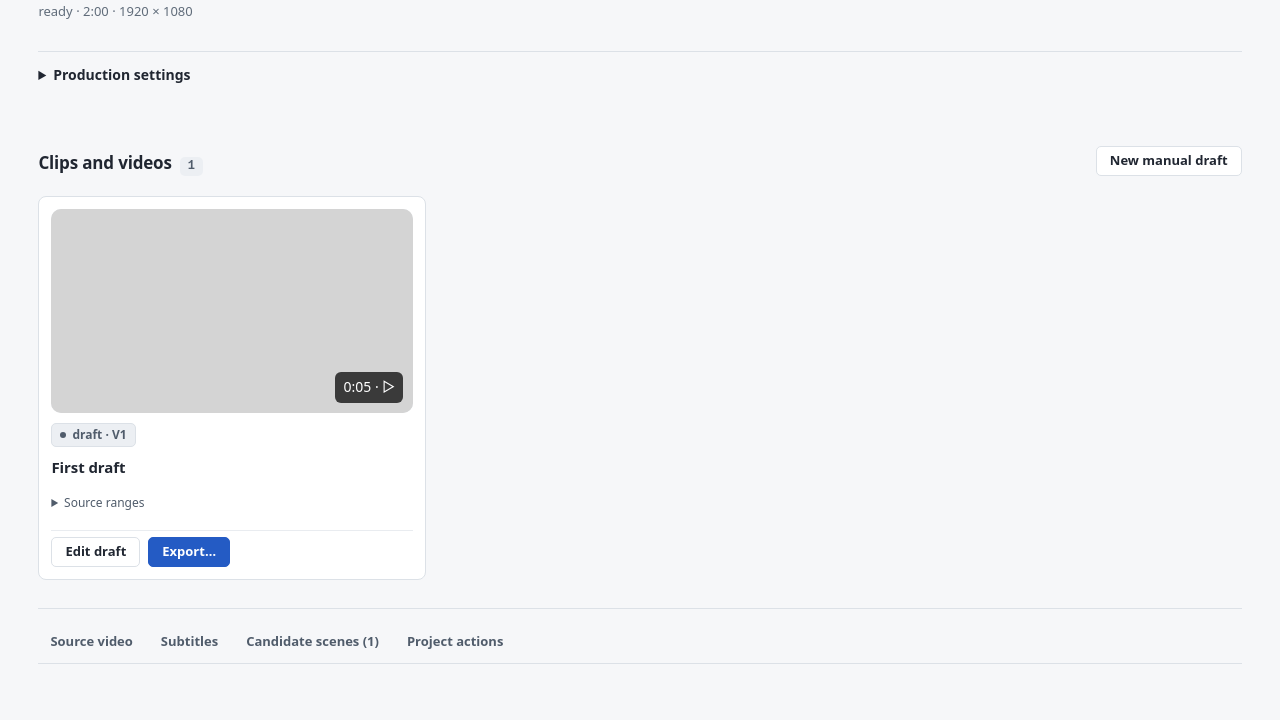
Test: review and result routes › requires an explicit batch subtitle confirmation and preserves old draft flags until then
The width and height of the screenshot is (1280, 720).
(page scrolled)
Click the button "Project actions" at (455, 643), box [395,621,515,664]
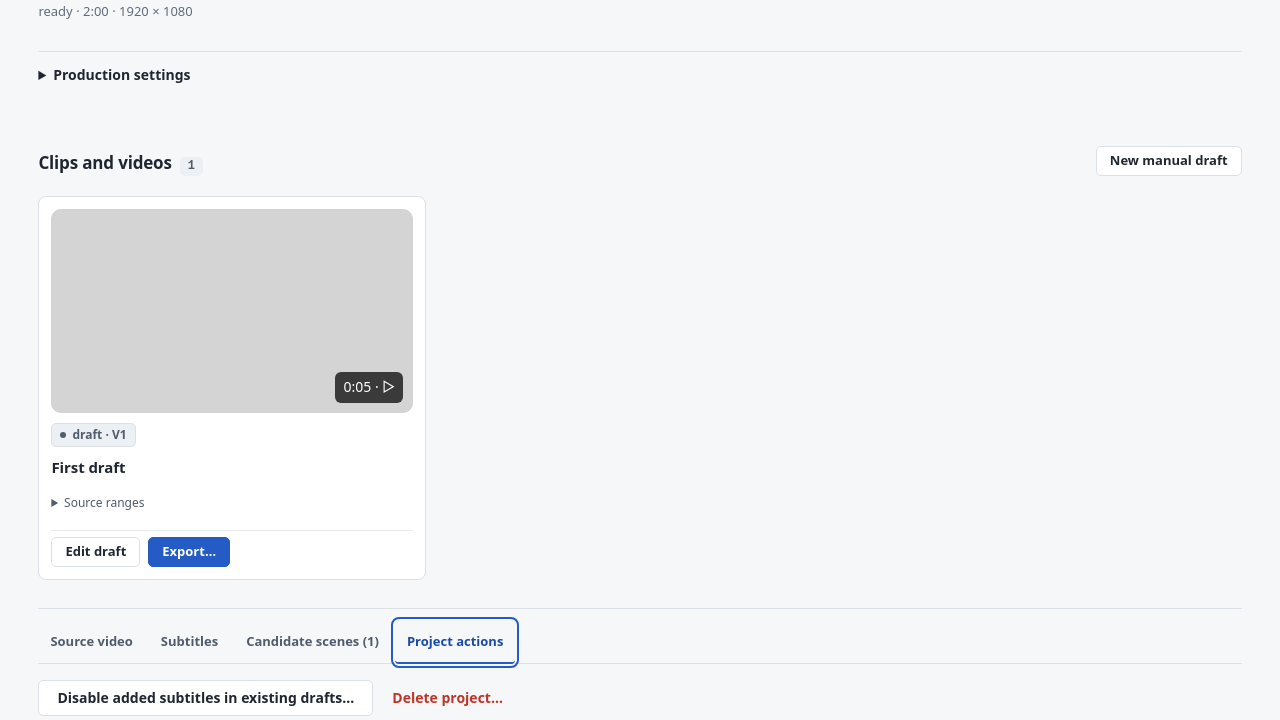
Click the button "Disable added subtitles in existing drafts…" at (206, 698), box [38,680,373,716]
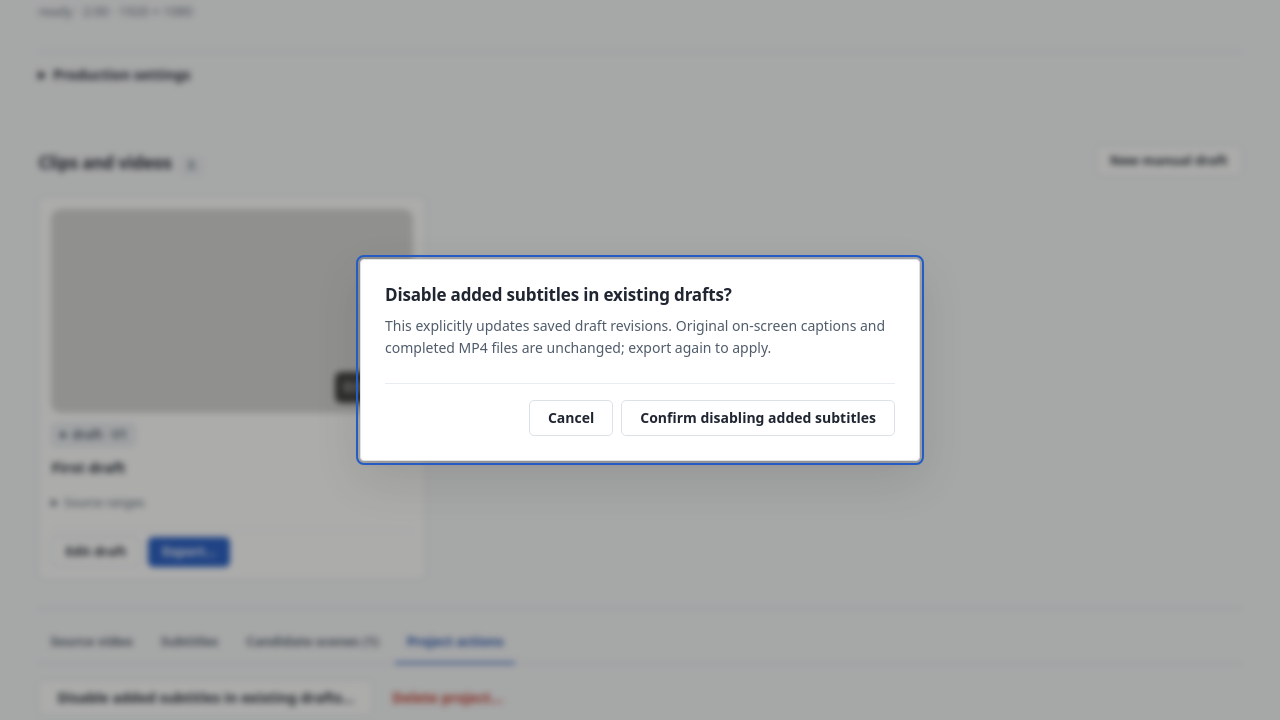
Click the button "Confirm disabling added subtitles" at (758, 418), box [621,400,895,436]
(page scrolled)
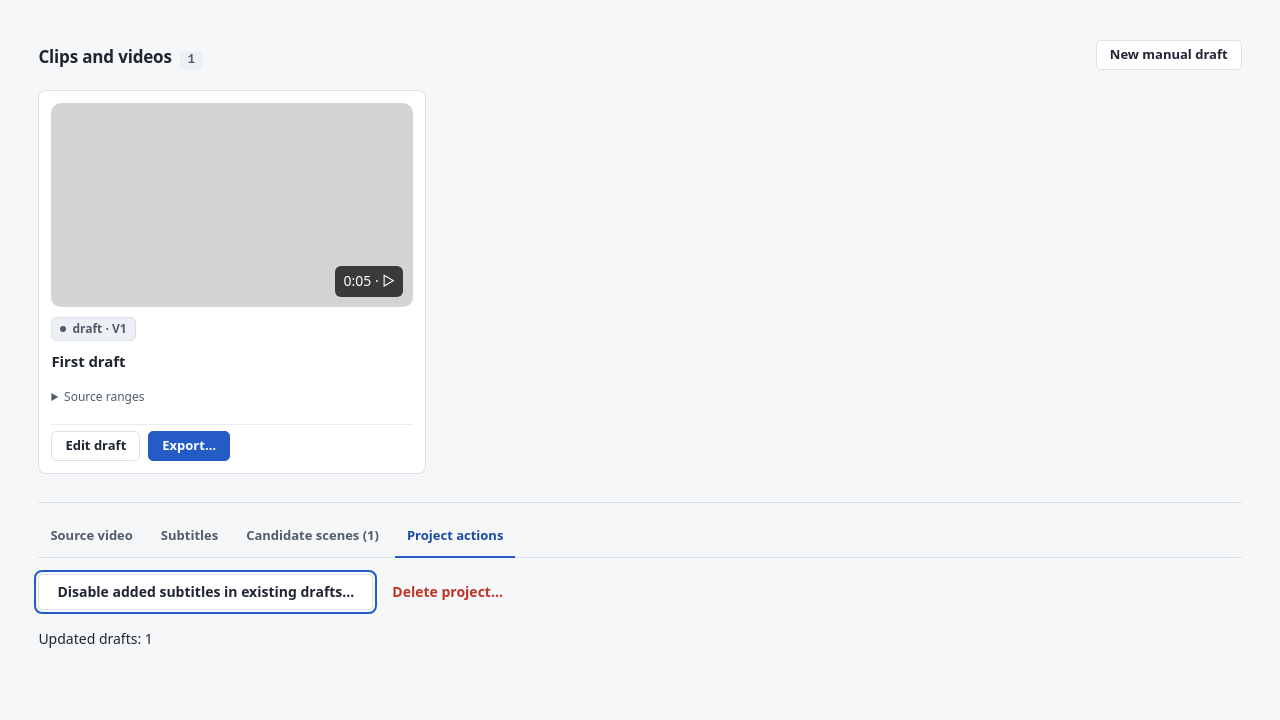
Expected: the text "Updated drafts: 1" is shown, [38,629,153,648]
